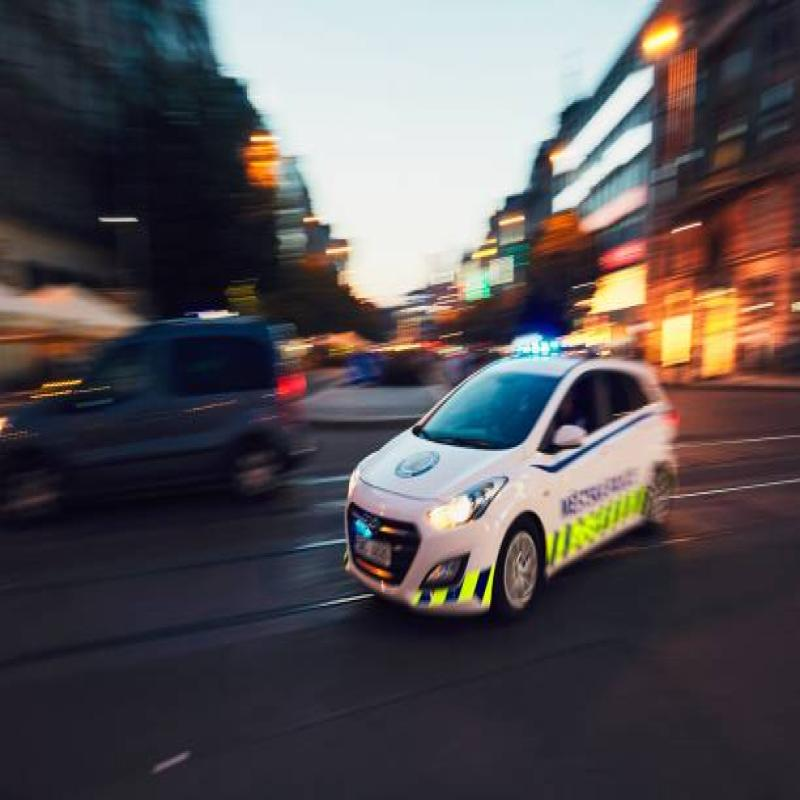AmbulanceSiren: (497, 300, 585, 375)
